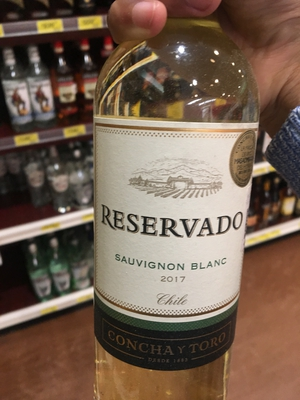reservado sauvignon blanc: (87, 10, 259, 400)
